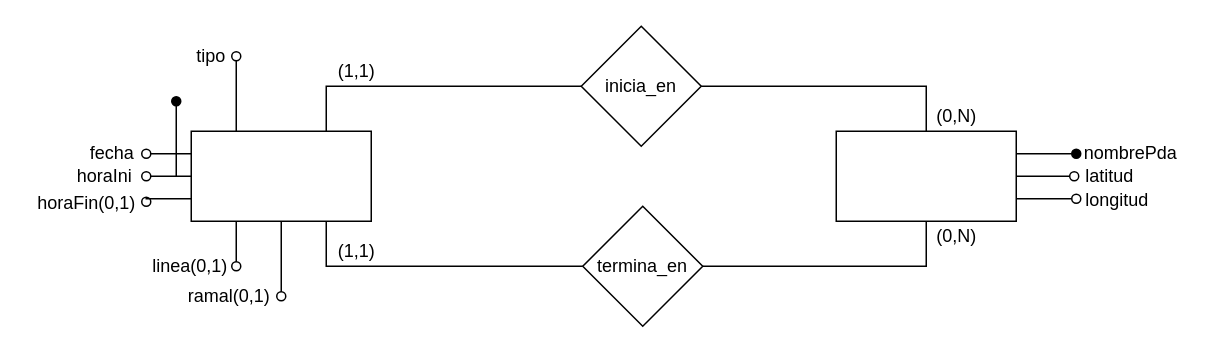
Image size: 1215x353. Some labels were removed from this diagram. Here are the shapes that lost their labels. From the top down, the centre of each, then its label:
At pixel 280 175: "Viaje".
At pixel 925 175: "Parada".
